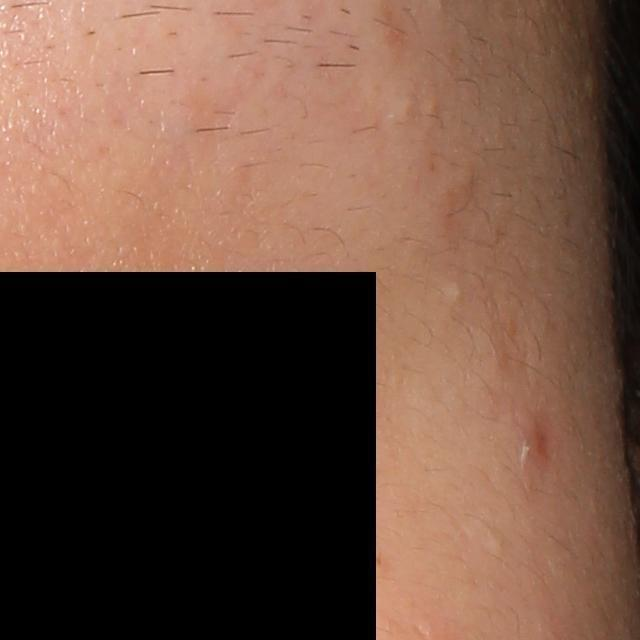comedo: (394, 99, 418, 118), (449, 282, 464, 302)
papule: (524, 416, 550, 456)
